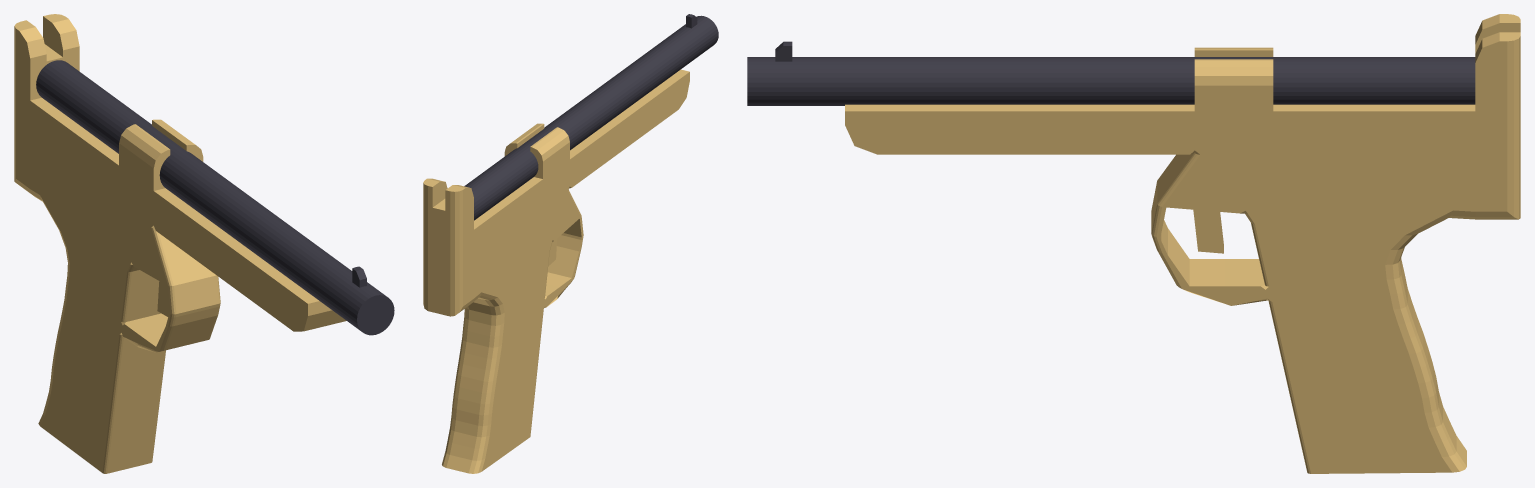
The model's file is Gun_2.fbx.
The picture shows the model from 3 angles, left to right: view 1: azimuth 30°, elevation 25°; view 2: azimuth 150°, elevation 25°; view 3: azimuth 270°, elevation 25°; orthographic projection. The views are drawn at different scales.
Parts seen in each view (by area): view 1: Cube; view 2: Cube; view 3: Cube.
Part boxes in pixels (box(x1,y1,x2,y2)): Cube: box(14, 14, 394, 473); Cube: box(423, 14, 718, 473); Cube: box(747, 14, 1520, 473).
Bounding box in the file's own units: 36.75 × 271 × 439.
